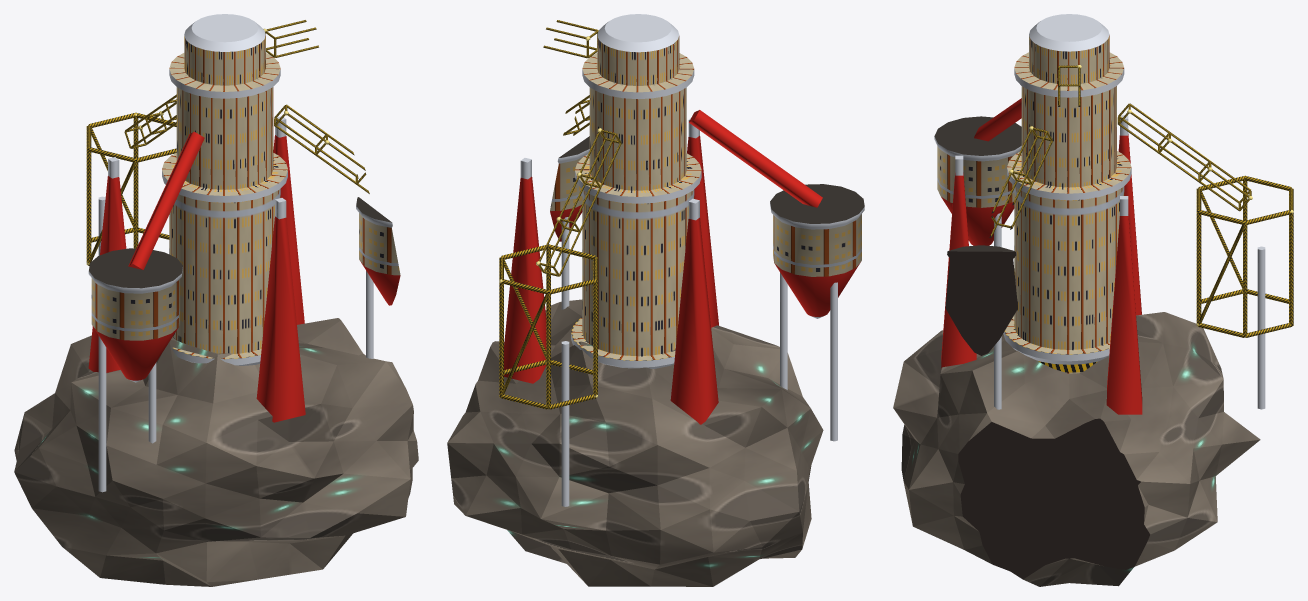
Rendered from mining_facility_build2_debris1.obj.
The picture shows the model from 3 angles, left to right: view 1: azimuth 30°, elevation 25°; view 2: azimuth 150°, elevation 25°; view 3: azimuth 270°, elevation 25°; orthographic projection.
Parts seen in each view (by area): view 1: rock, tower, hopper, derrick, post, leg, conveyor, girder, brace; view 2: rock, tower, derrick, hopper, leg, post, girder, conveyor, brace; view 3: rock, tower, hopper, derrick, post, girder, leg, conveyor, brace.
Part boxes in pixels (box(x1,y1,x2,y2)): rock: box(14, 318, 418, 586); tower: box(162, 14, 287, 365); hopper: box(88, 197, 400, 382); derrick: box(88, 116, 305, 422); post: box(86, 20, 369, 264); leg: box(98, 196, 373, 492); conveyor: box(128, 131, 204, 269); girder: box(86, 30, 366, 265); brace: box(89, 128, 135, 263); rock: box(447, 299, 823, 586); tower: box(571, 14, 701, 368); derrick: box(504, 118, 718, 424); hopper: box(550, 136, 864, 318); leg: box(561, 217, 837, 506); post: box(499, 20, 621, 408); girder: box(499, 30, 621, 409); conveyor: box(689, 110, 822, 207); brace: box(502, 260, 547, 396); rock: box(893, 312, 1260, 586); tower: box(1003, 14, 1131, 373); hopper: box(934, 116, 1021, 355); derrick: box(941, 115, 1142, 414); post: box(989, 66, 1293, 336); girder: box(991, 65, 1293, 337); leg: box(994, 213, 1265, 409); conveyor: box(974, 98, 1021, 141); brace: box(1199, 191, 1244, 324).
Size of the model in its own units: 104 by 160 by 109.
8 materials, 3 textured.
